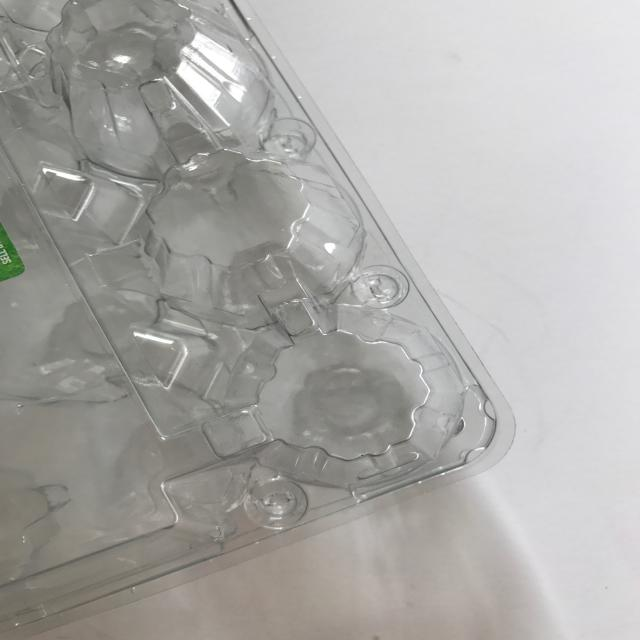plastic: (0, 0, 515, 635)
